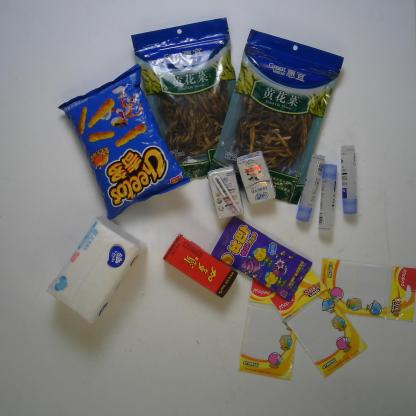Candy: (209, 214, 313, 304)
Dried Food: (204, 28, 346, 207), (129, 17, 253, 185)
Drink: (161, 234, 240, 300)
Milk: (235, 150, 276, 208), (207, 164, 246, 220)
Puffed Food: (54, 63, 191, 222)
Stationery: (270, 271, 369, 380), (236, 267, 302, 382), (316, 257, 416, 324), (294, 152, 326, 224), (316, 162, 340, 236), (339, 143, 358, 216)
Tissue: (44, 212, 150, 330)
